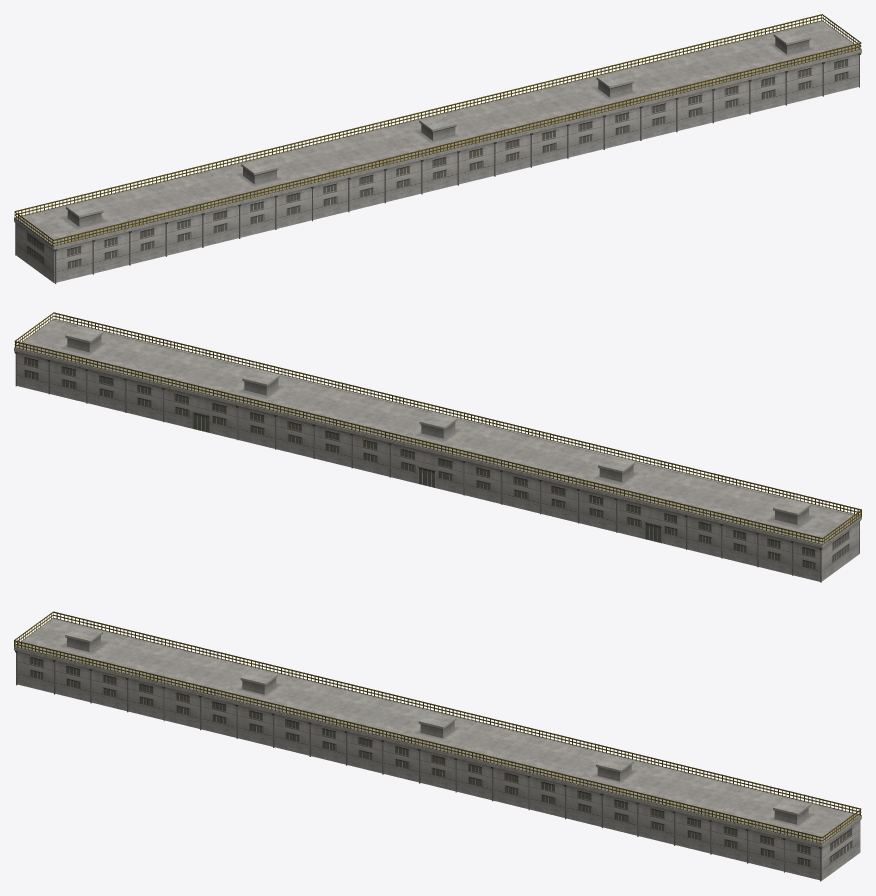
File: 中心泵房.obj
The picture shows the model from 3 angles, top to bottom: view 1: azimuth 30°, elevation 25°; view 2: azimuth 150°, elevation 25°; view 3: azimuth 330°, elevation 25°; orthographic projection.
Visible parts, largest first — view 1: Object183; view 2: Object183; view 3: Object183.
Boxes of the visible parts, left/top/right/bottom form: Object183: left=14, top=14, right=861, bottom=283; Object183: left=14, top=312, right=861, bottom=582; Object183: left=14, top=611, right=861, bottom=881.
Bounding box in the file's own units: 491 × 28.76 × 42.56.
